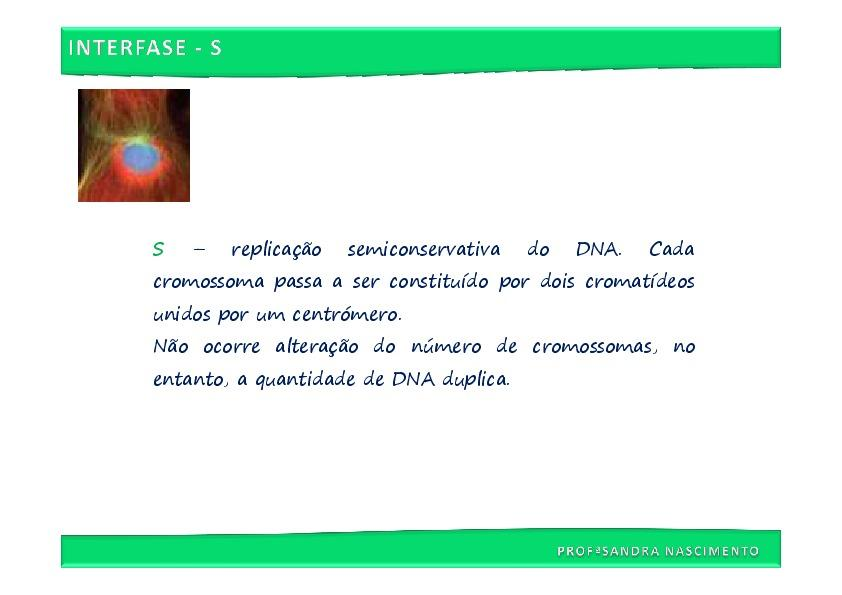paragraph: (147, 205, 747, 410)
title: (62, 20, 226, 67)
